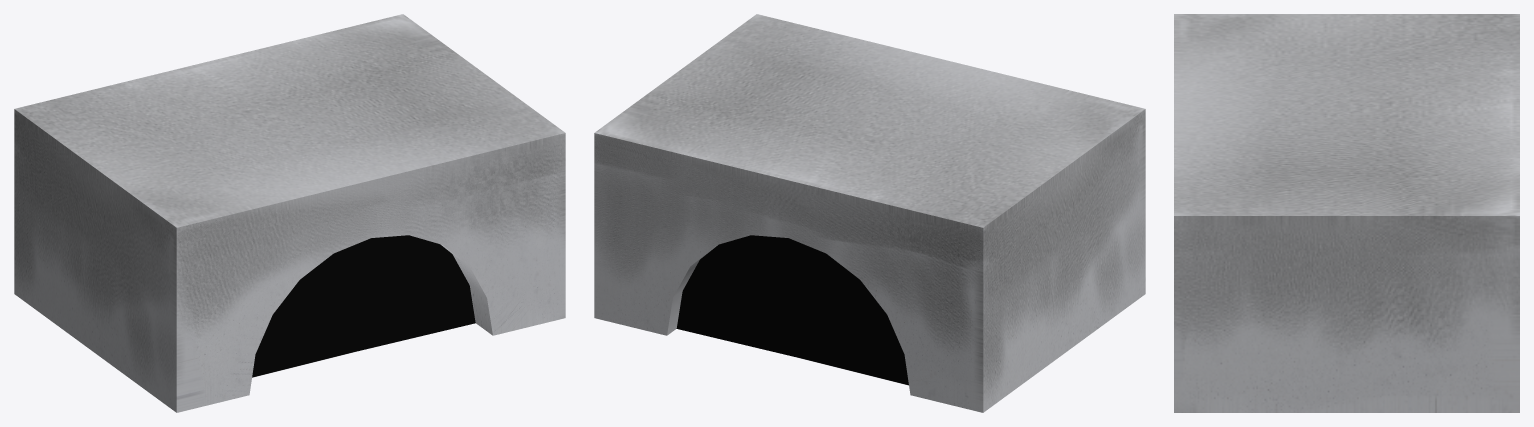
File: tonneru.fbx
The picture shows the model from 3 angles, left to right: view 1: azimuth 30°, elevation 25°; view 2: azimuth 150°, elevation 25°; view 3: azimuth 270°, elevation 25°; orthographic projection. The views are drawn at different scales.
Visible parts, largest first — view 1: polySurface1, polySurface2; view 2: polySurface1, polySurface3; view 3: polySurface1.
Part boxes in pixels (x1,y1,x2,y2): polySurface1: [14, 14, 565, 412]; polySurface2: [252, 235, 475, 377]; polySurface1: [594, 14, 1145, 412]; polySurface3: [676, 235, 908, 385]; polySurface1: [1174, 14, 1519, 412].
Size of the model in its own units: 1382 by 628 by 1000.
Materials: 2 (1 with a texture image).
